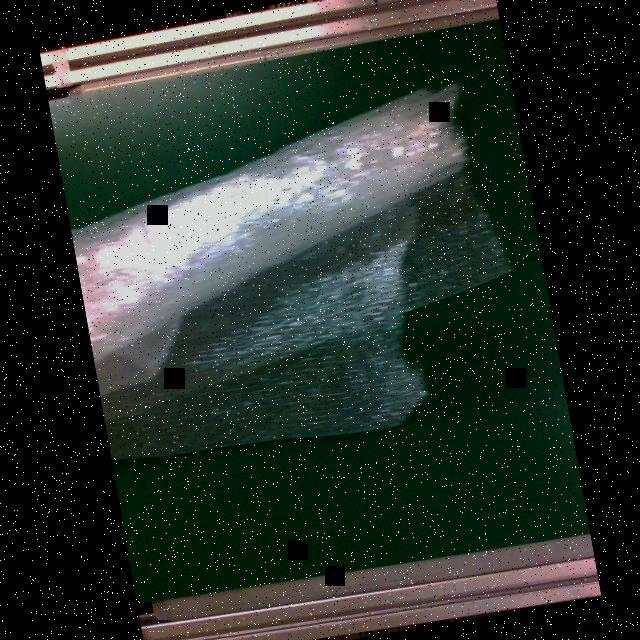scrap_plastic: (56, 68, 542, 476)
